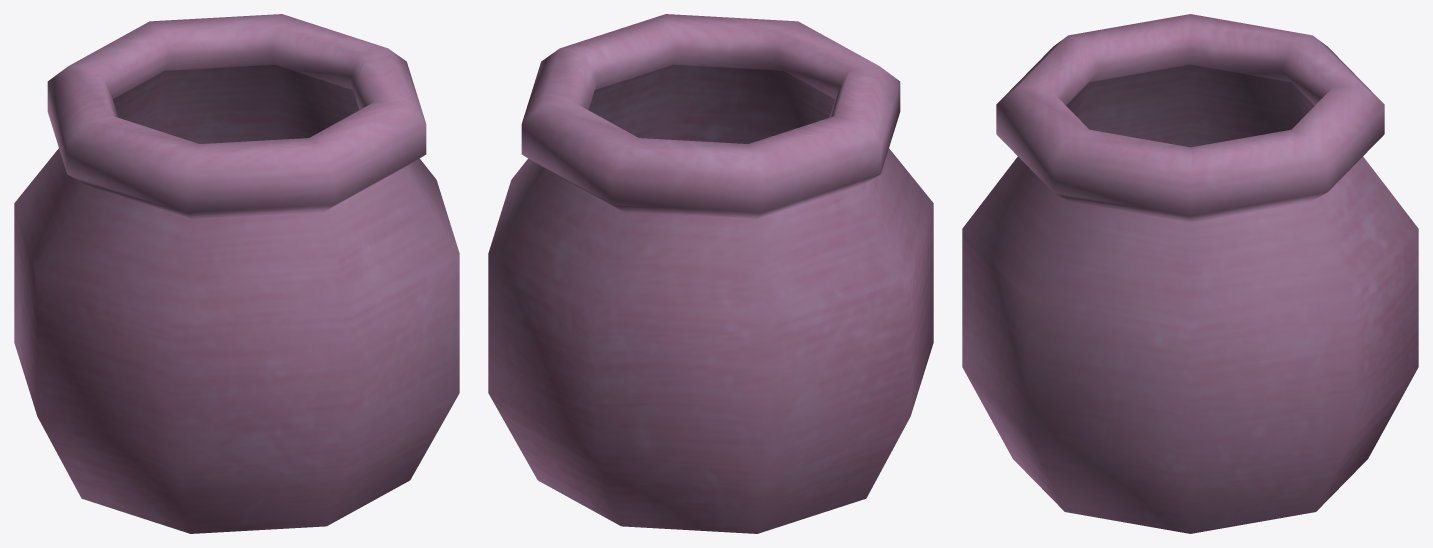
The model's file is Small Pot.fbx.
3 views of the same model, side by side, from view 1: azimuth 30°, elevation 25°; view 2: azimuth 150°, elevation 25°; view 3: azimuth 270°, elevation 25° (orthographic).
Parts seen in each view (by area): view 1: Small_Pot_low; view 2: Small_Pot_low; view 3: Small_Pot_low.
Part boxes in pixels (left/top/right/bottom): Small_Pot_low: left=14, top=14, right=459, bottom=533; Small_Pot_low: left=488, top=14, right=933, bottom=533; Small_Pot_low: left=962, top=14, right=1418, bottom=533.
Bounding box in the file's own units: 0.4354 × 0.3912 × 0.4354.
1 material, 1 textured.
